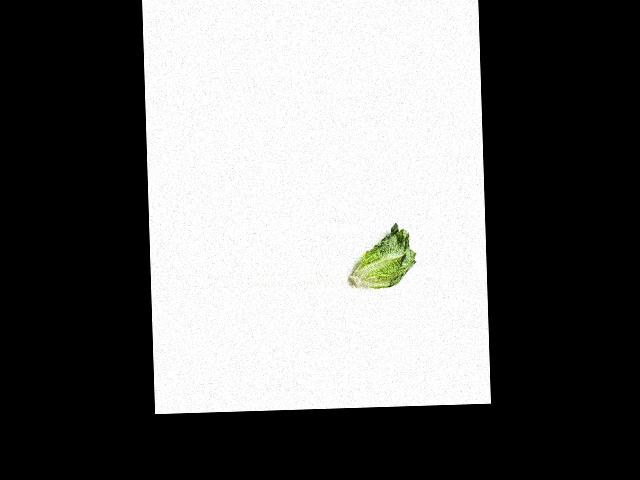lettuce: (349, 223, 420, 291)
